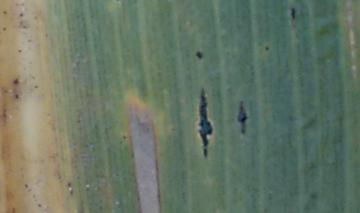tarspot: (197, 87, 214, 159), (235, 100, 249, 134), (288, 6, 297, 21), (195, 48, 204, 60), (262, 44, 271, 52), (12, 77, 20, 85), (1, 7, 8, 16), (1, 25, 8, 33), (23, 182, 30, 190), (17, 12, 25, 18), (66, 180, 72, 188), (13, 92, 19, 99), (32, 83, 39, 89), (37, 202, 43, 209), (17, 48, 23, 54), (121, 134, 128, 139)
